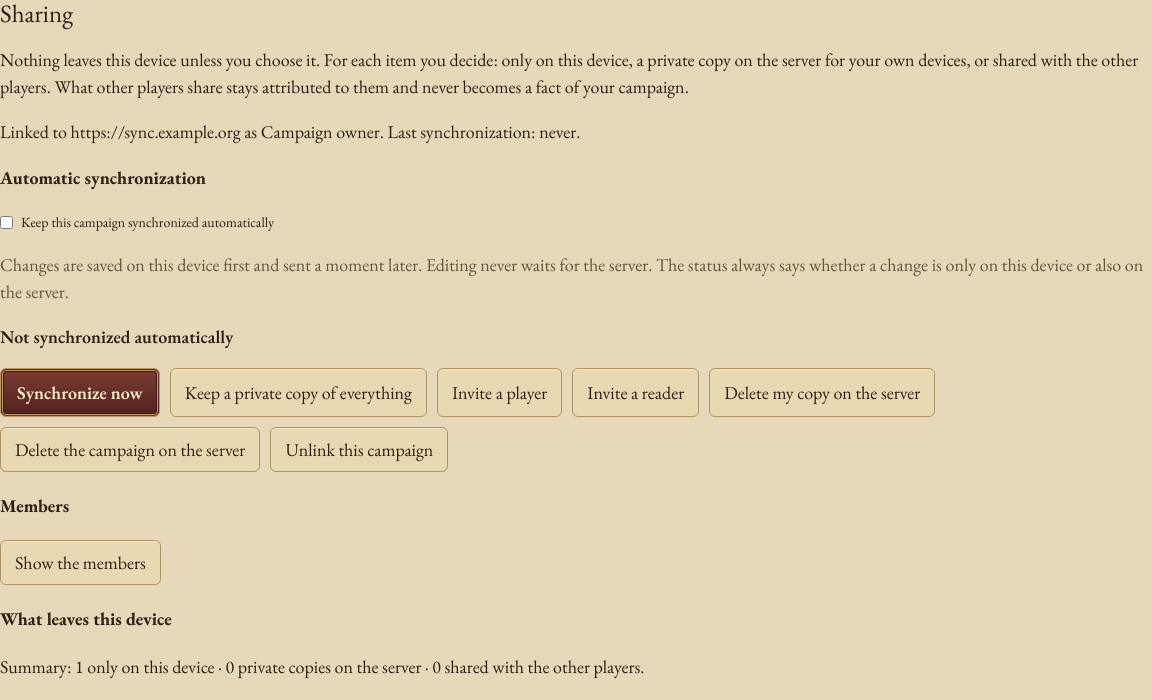
deleting your server copy or the whole campaign is confirmed, explains what stays, and never touches local items
Click the button "Delete my copy on the server": (822, 393) [709,368,935,417]
(page scrolled)
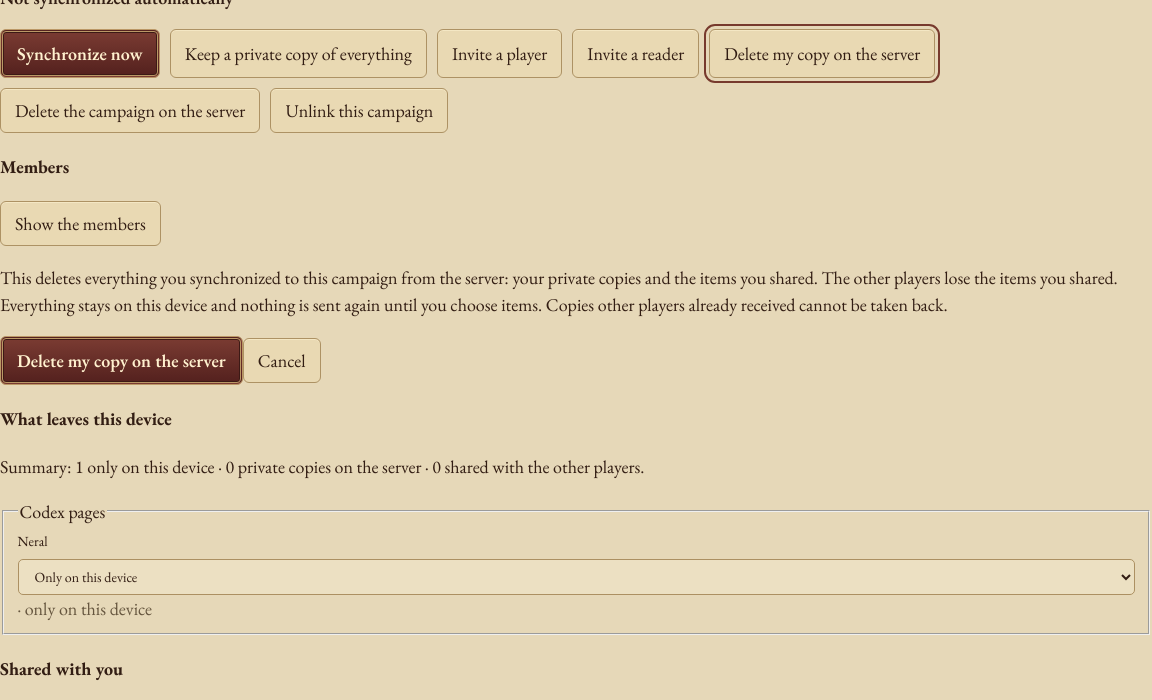
Check: the text "cannot be taken back" is shown, box [0,266,1118,316]
Click the 2nd button "Delete my copy on the server": (121, 360) [0,336,243,385]
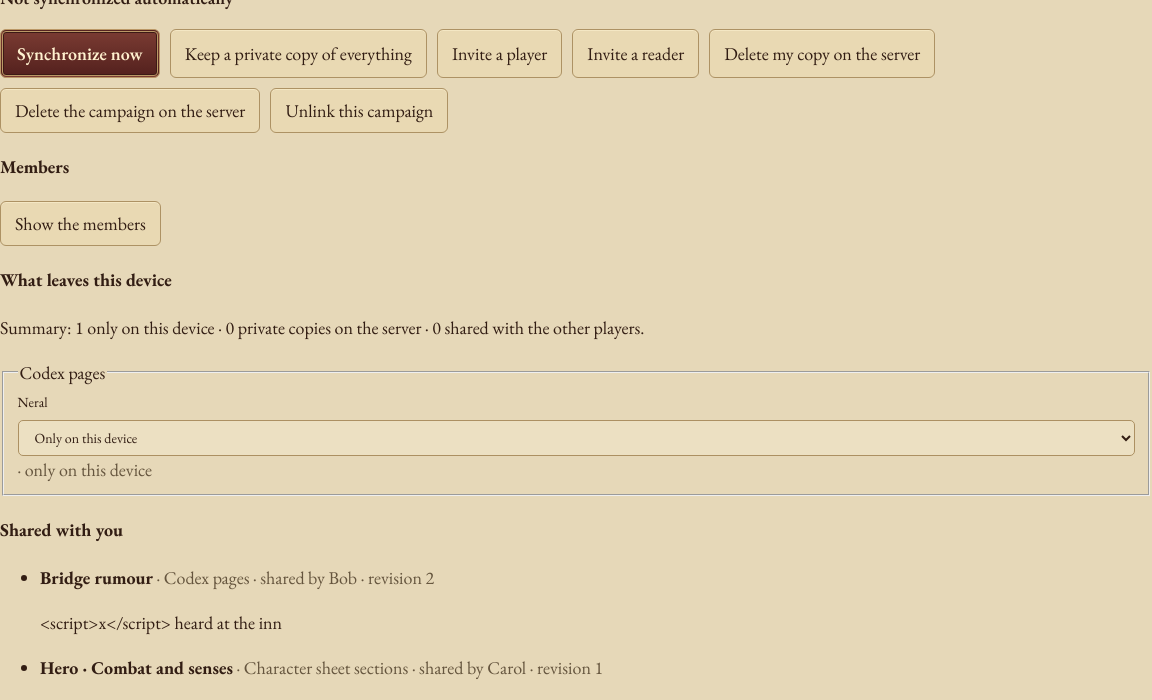
// The campaign itself needs its exact name, and only its owner can ask.
Click the button "Delete the campaign on the server": (130, 111) [0,88,260,133]
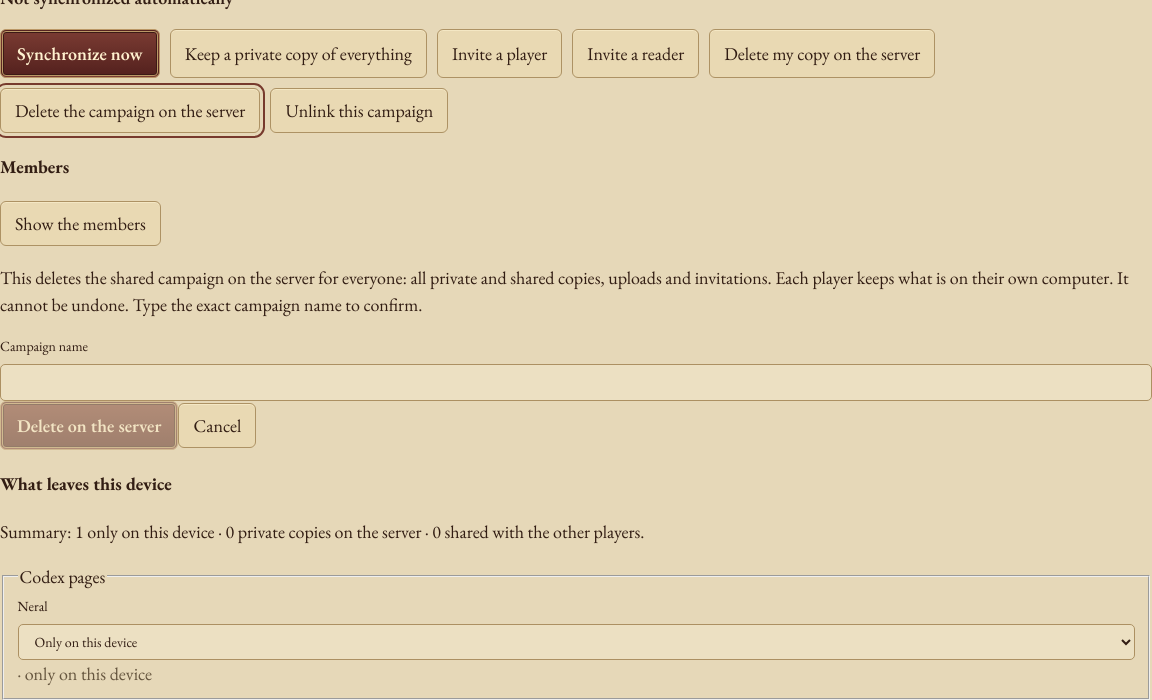
Check: the text "Each player keeps what is on their own computer" is shown, box [0,266,1129,316]
Check: the button "Delete on the server" is disabled, box [0,401,178,450]
In the field labelled "Campaign name": (576, 382) [0,364,1151,401], type "Synthetic"
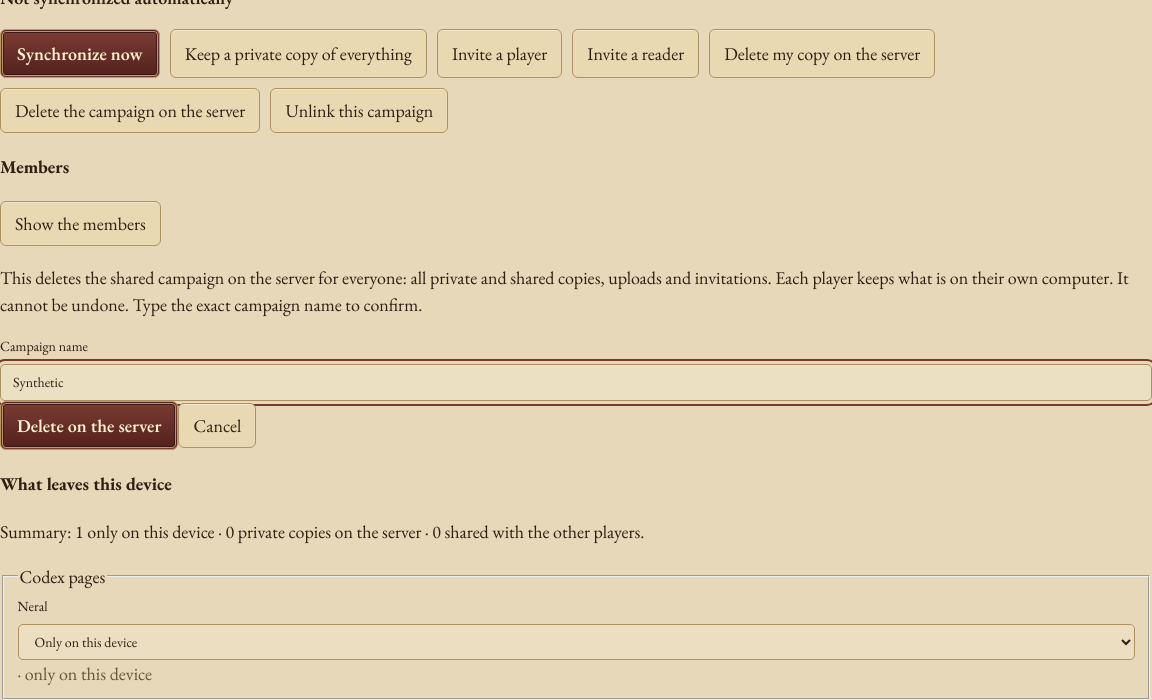
Click the button "Delete on the server": (89, 425) [0,401,178,450]
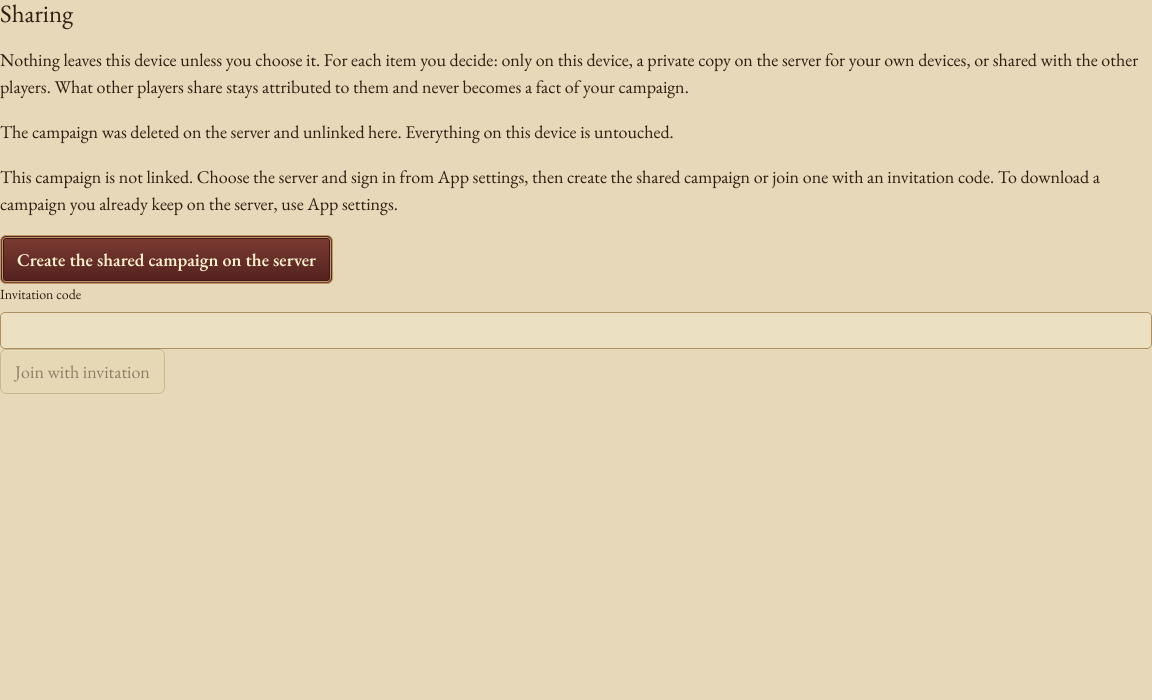
Check: the text "Everything on this device is untouched" is shown, box [0,120,674,142]
